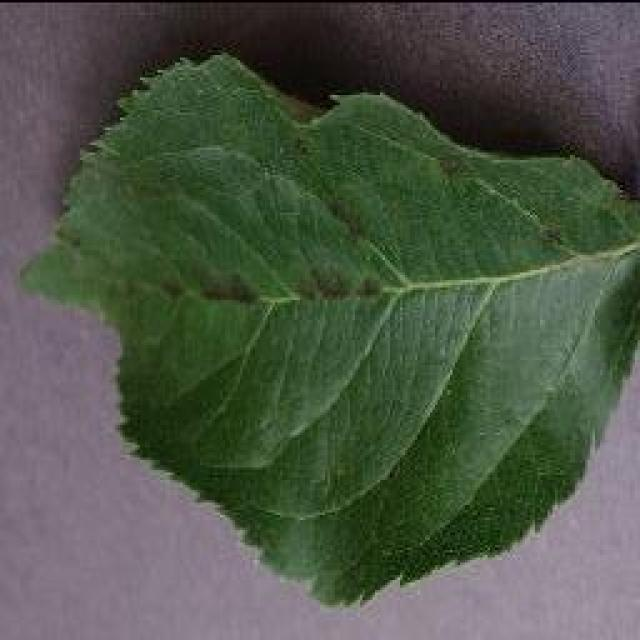apple scab disease: (18, 45, 638, 607)
